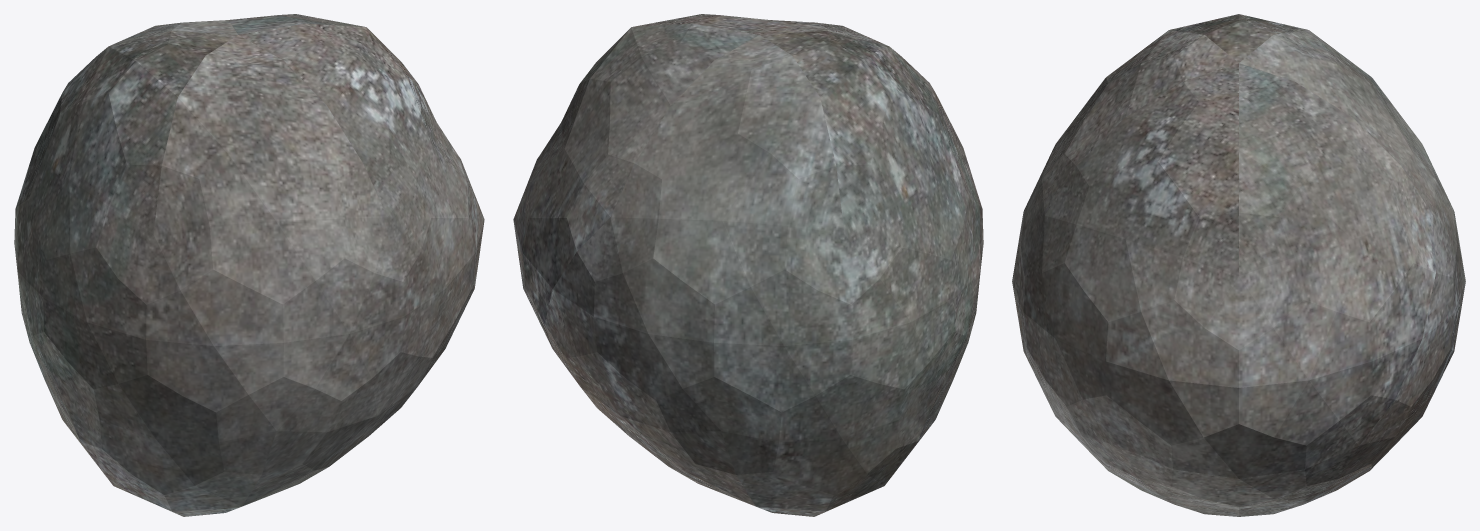
The model's file is FakeItemStone1PrehistoricPuzzle1.fbx.
3 renders of one model, left to right at view 1: azimuth 30°, elevation 25°; view 2: azimuth 150°, elevation 25°; view 3: azimuth 270°, elevation 25°, orthographic.
Visible parts, largest first — view 1: fake stone 1; view 2: fake stone 1; view 3: fake stone 1.
Boxes of the visible parts, left/top/right/bottom form: fake stone 1: left=14, top=14, right=484, bottom=516; fake stone 1: left=513, top=14, right=983, bottom=516; fake stone 1: left=1012, top=14, right=1465, bottom=516.
Bounding box in the file's own units: 74.8 × 78.25 × 69.1.
1 material, 1 textured.
